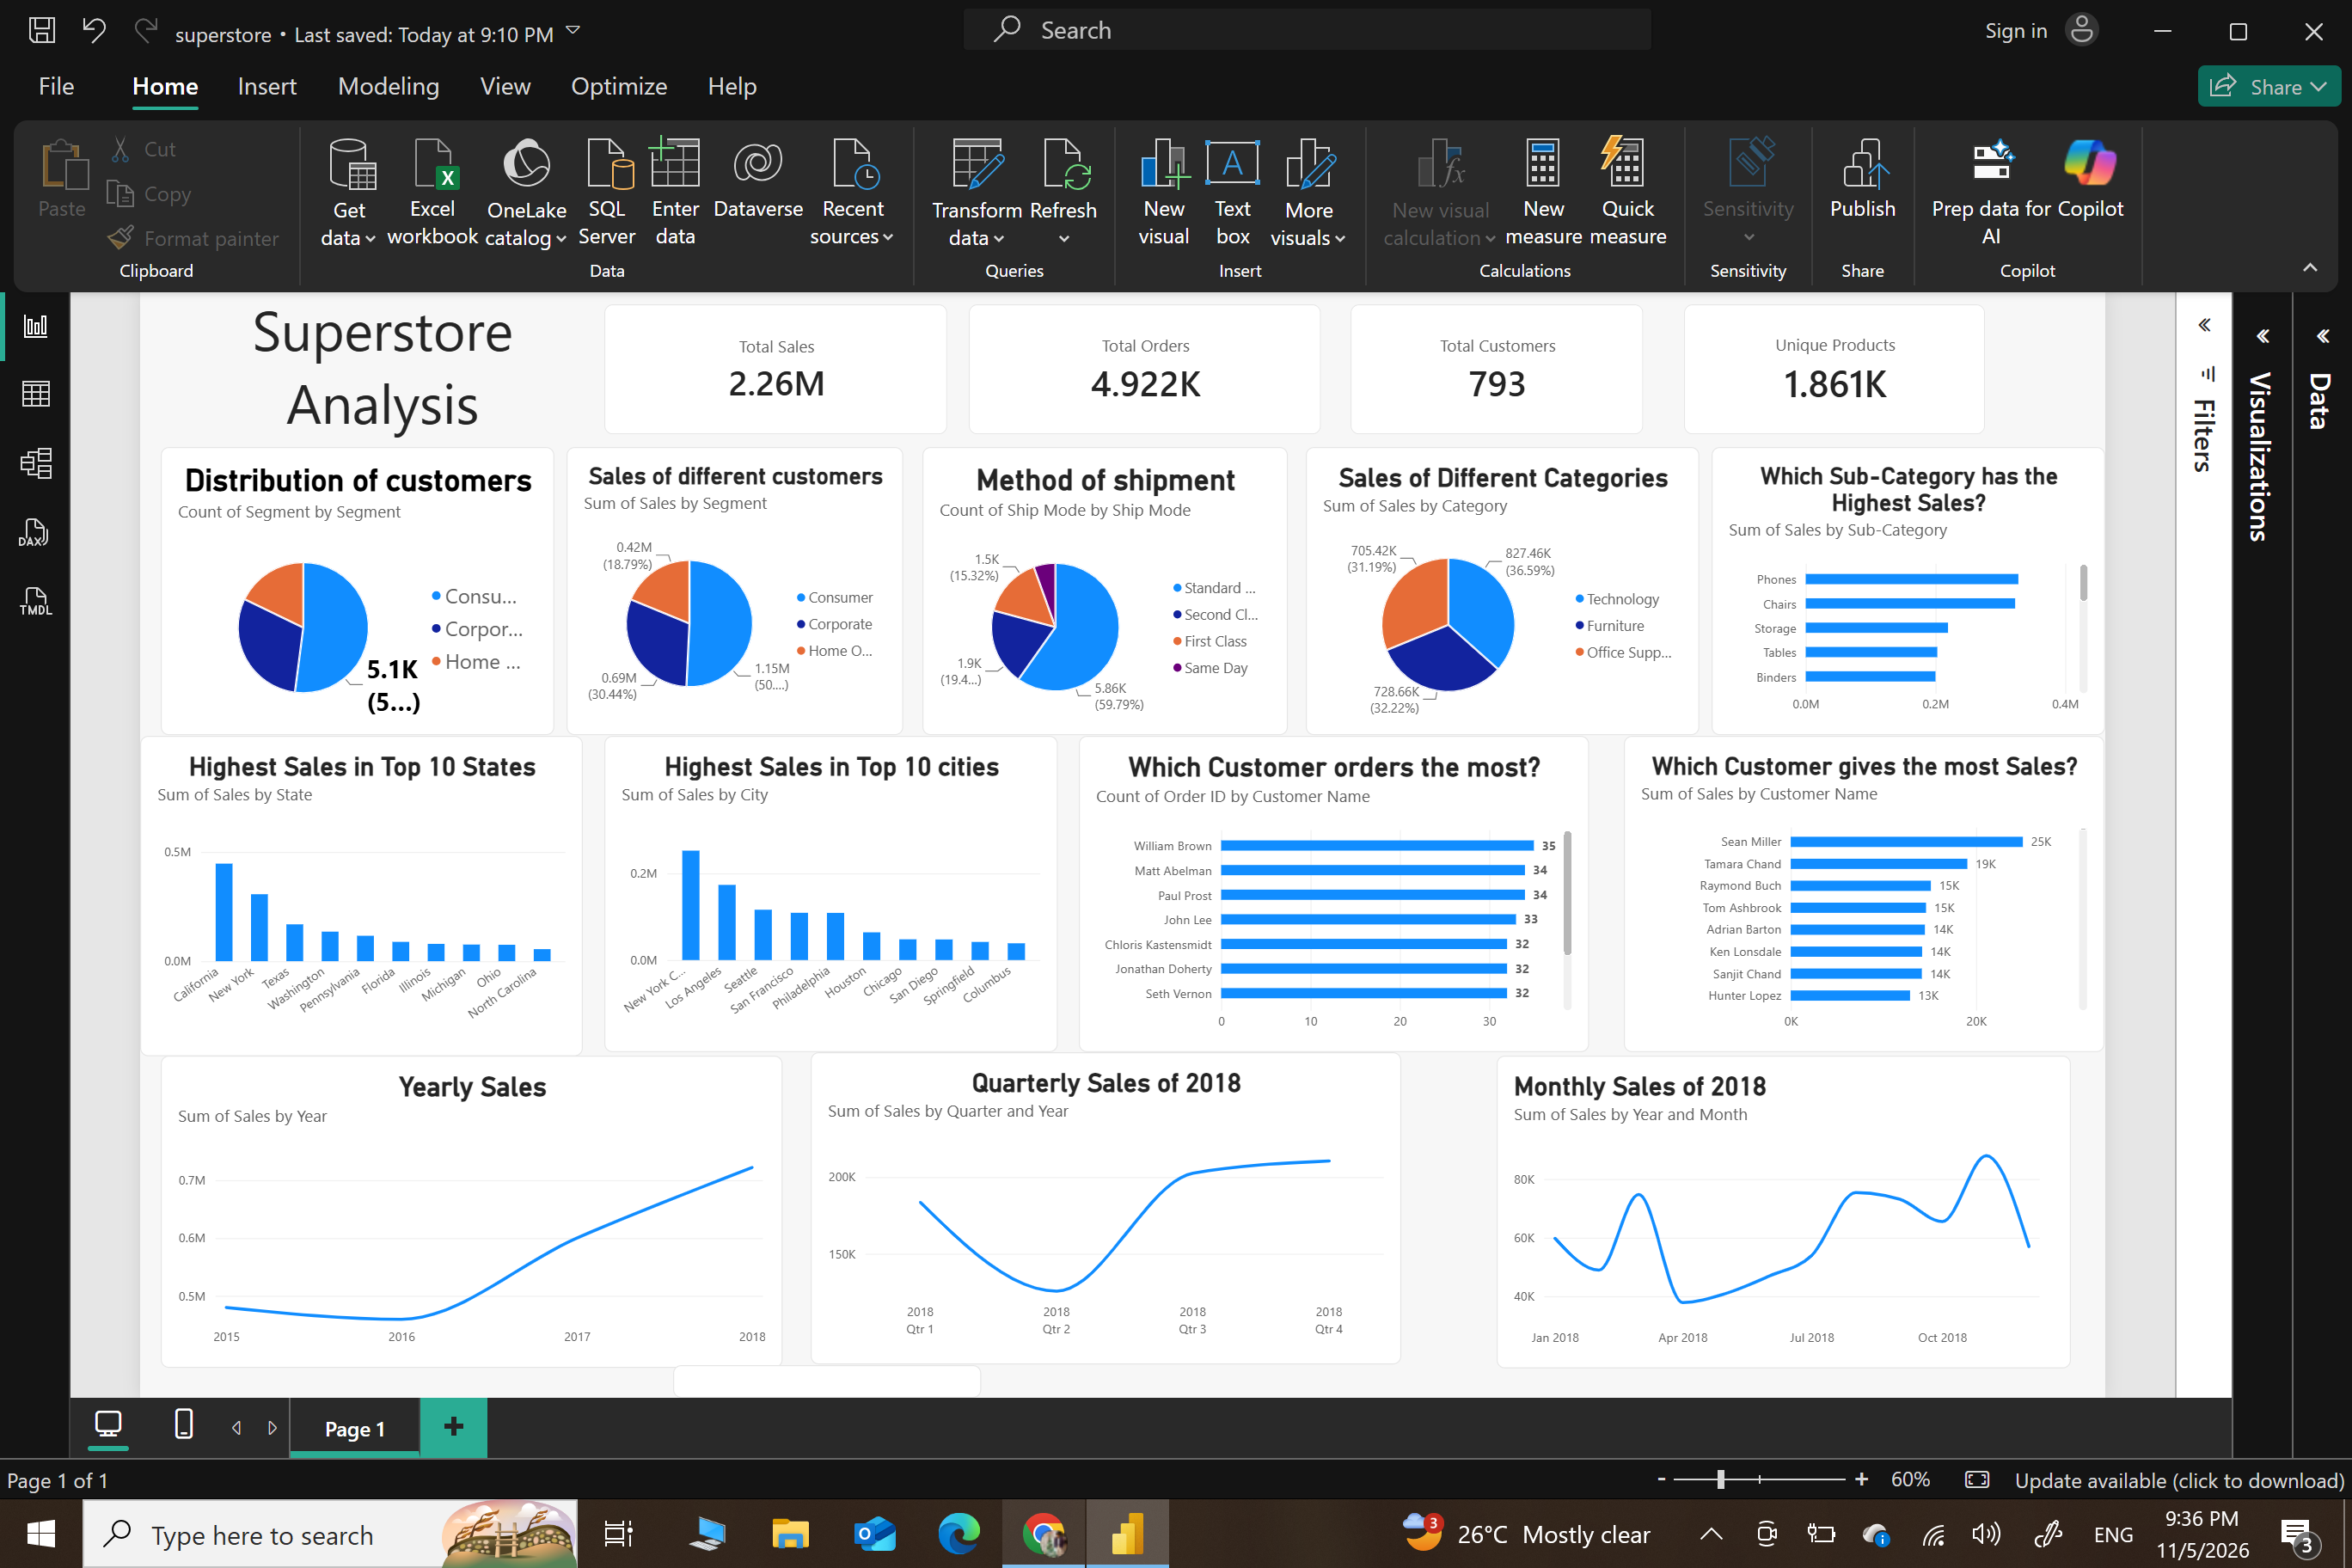

This screenshot's page, from the dashboard's own definition file:
{"tool":"powerbi","page":{"name":"Page 1","canvas":[1920,1080],"ordinal":0},"visuals":[{"type":"pieChart","title":"Distribution of customers","fields":{"Category":["Cleaned_superstore.Segment"],"Y":["CountNonNull(Cleaned_superstore.Segment)"]},"box":[20.6,150.4,384.5,281.5],"z":0},{"type":"pieChart","title":"Sales of different customers","fields":{"Category":["Cleaned_superstore.Segment"],"Y":["Sum(Cleaned_superstore.Sales)"]},"box":[416.1,150.4,329.2,281.5],"z":1},{"type":"pieChart","title":"Method of shipment","fields":{"Category":["Cleaned_superstore.Ship Mode"],"Y":["CountNonNull(Cleaned_superstore.Ship Mode)"]},"box":[764.3,150.4,356.9,281.5],"z":2},{"type":"lineChart","title":"Yearly Sales","fields":{"Category":["Cleaned_superstore.Order Date.Variation.Date Hierarchy.Year"],"Y":["Sum(Cleaned_superstore.Sales)"]},"box":[20.6,745.8,607.7,304.9],"z":3},{"type":"lineChart","title":"Quarterly Sales of 2018","fields":{"Category":["Cleaned_superstore.Order Date.Variation.Date Hierarchy.Quarter","Cleaned_superstore.Order Date.Variation.Date Hierarchy.Year"],"Y":["Sum(Cleaned_superstore.Sales)"]},"box":[655.1,742.4,576.8,304.9],"z":4},{"type":"lineChart","title":"Monthly Sales of 2018","fields":{"Category":["Cleaned_superstore.Order Date.Variation.Date Hierarchy.Year","Cleaned_superstore.Order Date.Variation.Date Hierarchy.Month"],"Y":["Sum(Cleaned_superstore.Sales)"]},"box":[1325.2,745.8,561,305.7],"z":5},{"type":"pieChart","title":"Sales of Different Categories","fields":{"Category":["Cleaned_superstore.Category"],"Y":["Sum(Cleaned_superstore.Sales)"]},"box":[1139.2,150.4,384.5,281.5],"z":6},{"type":"clusteredBarChart","title":"Which Sub-Category has the Highest Sales?","fields":{"Category":["Cleaned_superstore.Sub-Category"],"Y":["Sum(Cleaned_superstore.Sales)"]},"box":[1534.8,150.4,384.5,281.5],"z":7},{"type":"columnChart","title":"Highest Sales in Top 10 States","fields":{"Category":["Cleaned_superstore.State"],"Y":["Sum(Cleaned_superstore.Sales)"]},"box":[0,432.6,432.6,313.1],"z":8},{"type":"columnChart","title":"Highest Sales in Top 10 cities","fields":{"Category":["Cleaned_superstore.City"],"Y":["Sum(Cleaned_superstore.Sales)"]},"box":[453.2,432.6,442.9,309],"z":9},{"type":"barChart","title":"Which Customer gives the most Sales?","fields":{"Category":["Cleaned_superstore.Customer Name"],"Y":["Sum(Cleaned_superstore.Sales)"]},"box":[1450.3,432.6,469.7,309],"z":10},{"type":"clusteredBarChart","title":"Which Customer orders the most?","fields":{"Category":["Cleaned_superstore.Customer Name"],"Y":["CountNonNull(Cleaned_superstore.Order ID)"]},"box":[916.7,432.6,498.5,309],"z":11},{"type":"cardVisual","fields":{"Data":["Sum(Cleaned_superstore.Sales)"]},"box":[453.5,11.8,335.8,127.7],"z":12},{"type":"cardVisual","fields":{"Data":["Count(Cleaned_superstore.Order ID)"]},"box":[809.6,11.8,344,127.7],"z":13},{"type":"cardVisual","fields":{"Data":["Count(Cleaned_superstore.Product ID)"]},"box":[1508.3,11.8,294.6,127.7],"z":14},{"type":"cardVisual","fields":{"Data":["Count(Cleaned_superstore.Customer ID)"]},"box":[1182.5,11.8,286.4,127.7],"z":15},{"type":"textbox","box":[20.2,0,433.3,151.2],"z":16},{"type":"aiNarratives","box":[521.2,1048.6,300.8,30.9],"z":17}]}

Visuals, with their boxes on the page's 1920x1080 design canvas (x1, y1, x2, y2). These are canvas units, not pixel positions in the 2352x1568 screenshot, which may show the page scaled, cropped or inside an application window:
"Distribution of customers" pieChart: (x1=21, y1=150, x2=405, y2=432)
"Sales of different customers" pieChart: (x1=416, y1=150, x2=745, y2=432)
"Method of shipment" pieChart: (x1=764, y1=150, x2=1121, y2=432)
"Yearly Sales" lineChart: (x1=21, y1=746, x2=628, y2=1051)
"Quarterly Sales of 2018" lineChart: (x1=655, y1=742, x2=1232, y2=1047)
"Monthly Sales of 2018" lineChart: (x1=1325, y1=746, x2=1886, y2=1052)
"Sales of Different Categories" pieChart: (x1=1139, y1=150, x2=1524, y2=432)
"Which Sub-Category has the Highest Sales?" clusteredBarChart: (x1=1535, y1=150, x2=1919, y2=432)
"Highest Sales in Top 10 States" columnChart: (x1=0, y1=433, x2=433, y2=746)
"Highest Sales in Top 10 cities" columnChart: (x1=453, y1=433, x2=896, y2=742)
"Which Customer gives the most Sales?" barChart: (x1=1450, y1=433, x2=1920, y2=742)
"Which Customer orders the most?" clusteredBarChart: (x1=917, y1=433, x2=1415, y2=742)
cardVisual - Sum(Cleaned_superstore.Sales): (x1=454, y1=12, x2=789, y2=140)
cardVisual - Count(Cleaned_superstore.Order ID): (x1=810, y1=12, x2=1154, y2=140)
cardVisual - Count(Cleaned_superstore.Product ID): (x1=1508, y1=12, x2=1803, y2=140)
cardVisual - Count(Cleaned_superstore.Customer ID): (x1=1182, y1=12, x2=1469, y2=140)
textbox: (x1=20, y1=0, x2=454, y2=151)
aiNarratives: (x1=521, y1=1049, x2=822, y2=1080)
